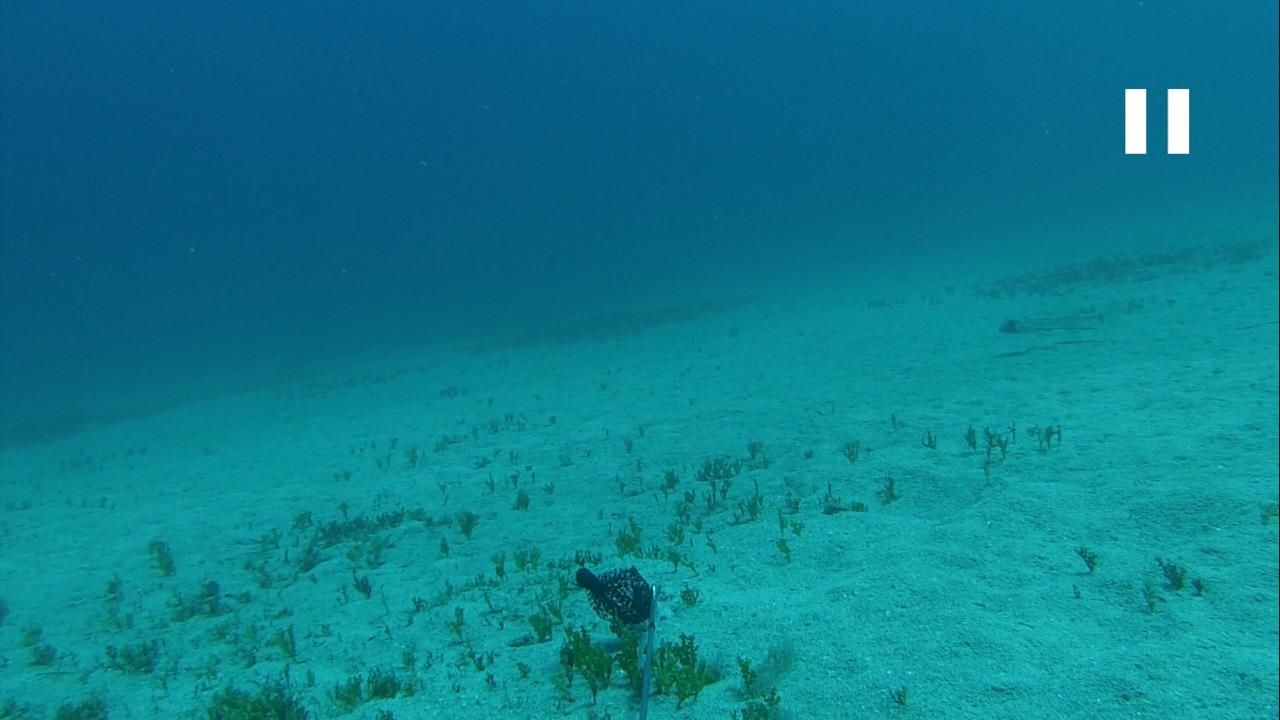dactylopterus: (986, 290, 1125, 346)
